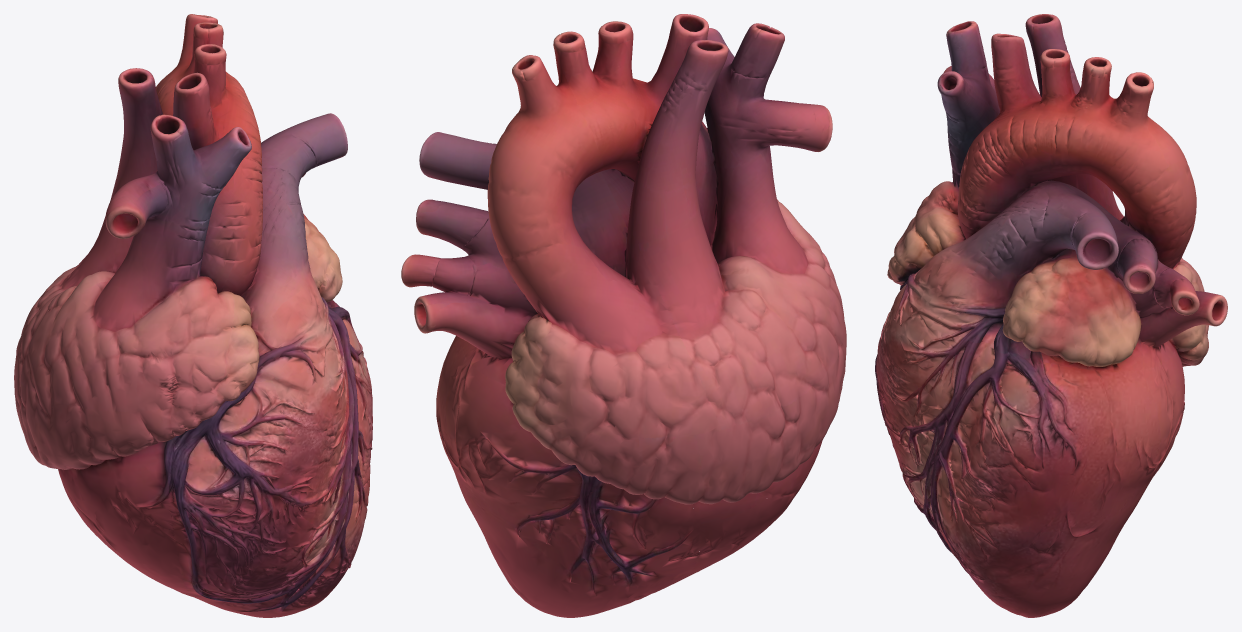
The model's file is heart.glb.
3 views of the same model, side by side, from view 1: azimuth 30°, elevation 25°; view 2: azimuth 150°, elevation 25°; view 3: azimuth 270°, elevation 25° (orthographic). The views are drawn at different scales.
Parts seen in each view (by area): view 1: tripo_node_9c16954f-d29a-4a4b-baf4-ba02eda23201; view 2: tripo_node_9c16954f-d29a-4a4b-baf4-ba02eda23201; view 3: tripo_node_9c16954f-d29a-4a4b-baf4-ba02eda23201.
Boxes of the visible parts, box(x1,y1,x2,y2) form: tripo_node_9c16954f-d29a-4a4b-baf4-ba02eda23201: box(14, 14, 372, 617); tripo_node_9c16954f-d29a-4a4b-baf4-ba02eda23201: box(401, 14, 846, 617); tripo_node_9c16954f-d29a-4a4b-baf4-ba02eda23201: box(875, 14, 1227, 617).
Size of the model in its own units: 19551 by 32124 by 19155.
Materials: 1 (1 with a texture image).
